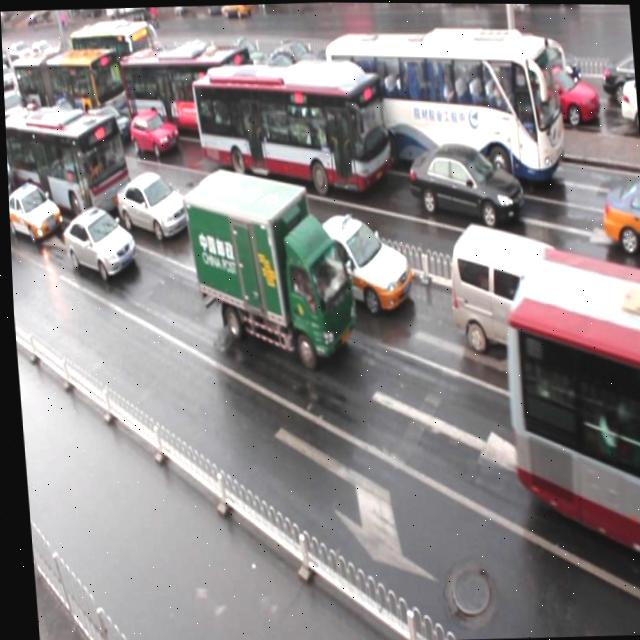bus: (180, 162, 353, 372)
car: (289, 209, 410, 316), (403, 138, 522, 229), (59, 203, 136, 280), (112, 169, 190, 243), (594, 167, 640, 252), (6, 175, 58, 238), (127, 107, 177, 157), (80, 102, 131, 150)
truck: (442, 217, 593, 382), (194, 167, 283, 268)
van: (495, 242, 640, 585), (321, 24, 566, 190), (187, 56, 389, 196), (3, 100, 131, 226), (117, 41, 254, 144), (12, 46, 126, 116)
